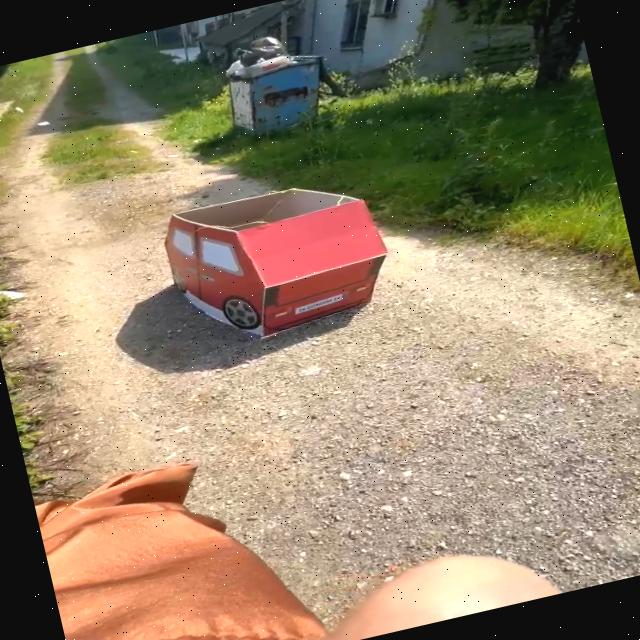red_car: (126, 155, 425, 377)
